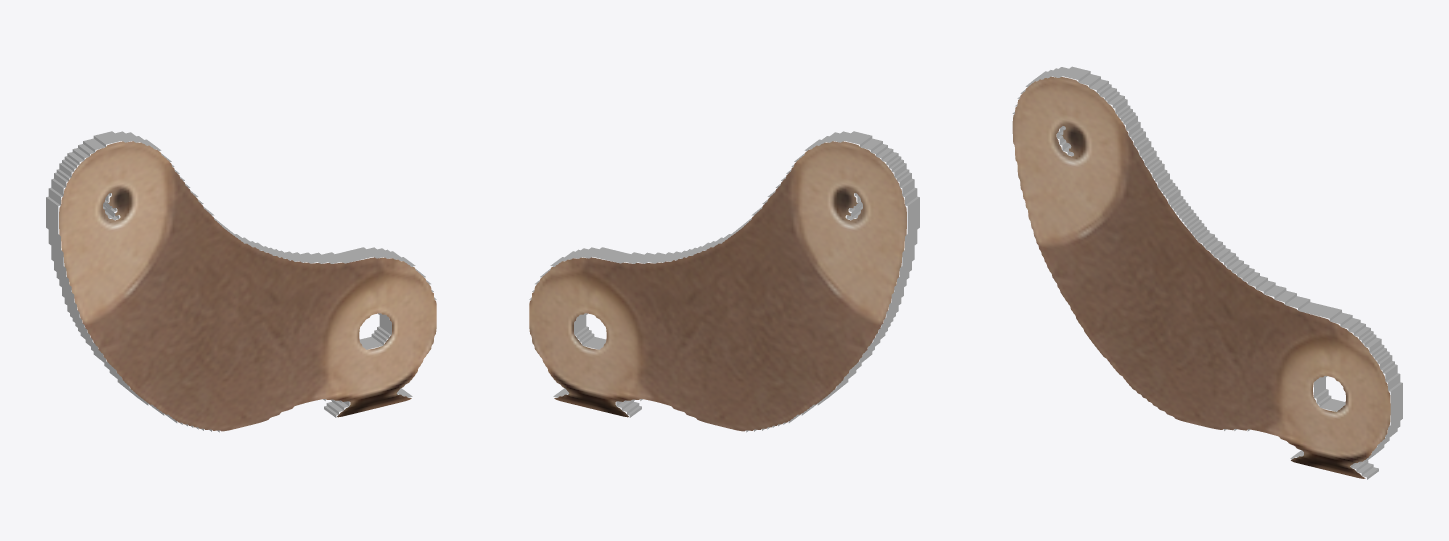
Rendered from Variant04Upper.glb.
3 renders of one model, left to right at view 1: azimuth 30°, elevation 25°; view 2: azimuth 150°, elevation 25°; view 3: azimuth 330°, elevation 25°, orthographic.
Parts seen in each view (by area): view 1: PaperVolume; view 2: PaperVolume; view 3: PaperVolume.
Boxes of the visible parts, x1,y1,x2,y2 form: PaperVolume: (46, 131, 436, 432); PaperVolume: (529, 131, 919, 432); PaperVolume: (1012, 66, 1402, 479).
Size of the model in its own units: 1.67 by 1.43 by 0.08.
3 materials, 2 textured.
